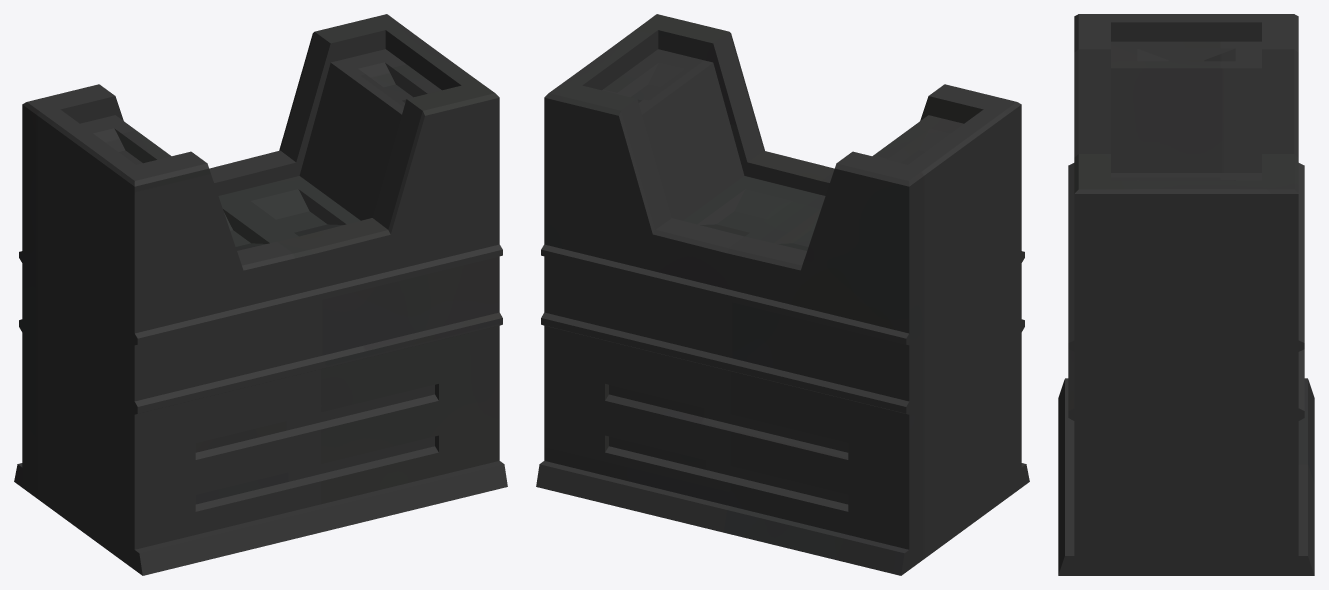
Rendered from Gate_bottom.fbx.
3 views of the same model, side by side, from view 1: azimuth 30°, elevation 25°; view 2: azimuth 150°, elevation 25°; view 3: azimuth 270°, elevation 25° (orthographic).
Parts seen in each view (by area): view 1: Cube; view 2: Cube; view 3: Cube.
Boxes of the visible parts, x1=… form: Cube: x1=14, y1=14, x2=507, y2=575; Cube: x1=536, y1=14, x2=1029, y2=575; Cube: x1=1058, y1=14, x2=1314, y2=575.
Bounding box in the file's own units: 300 × 304 × 183.
